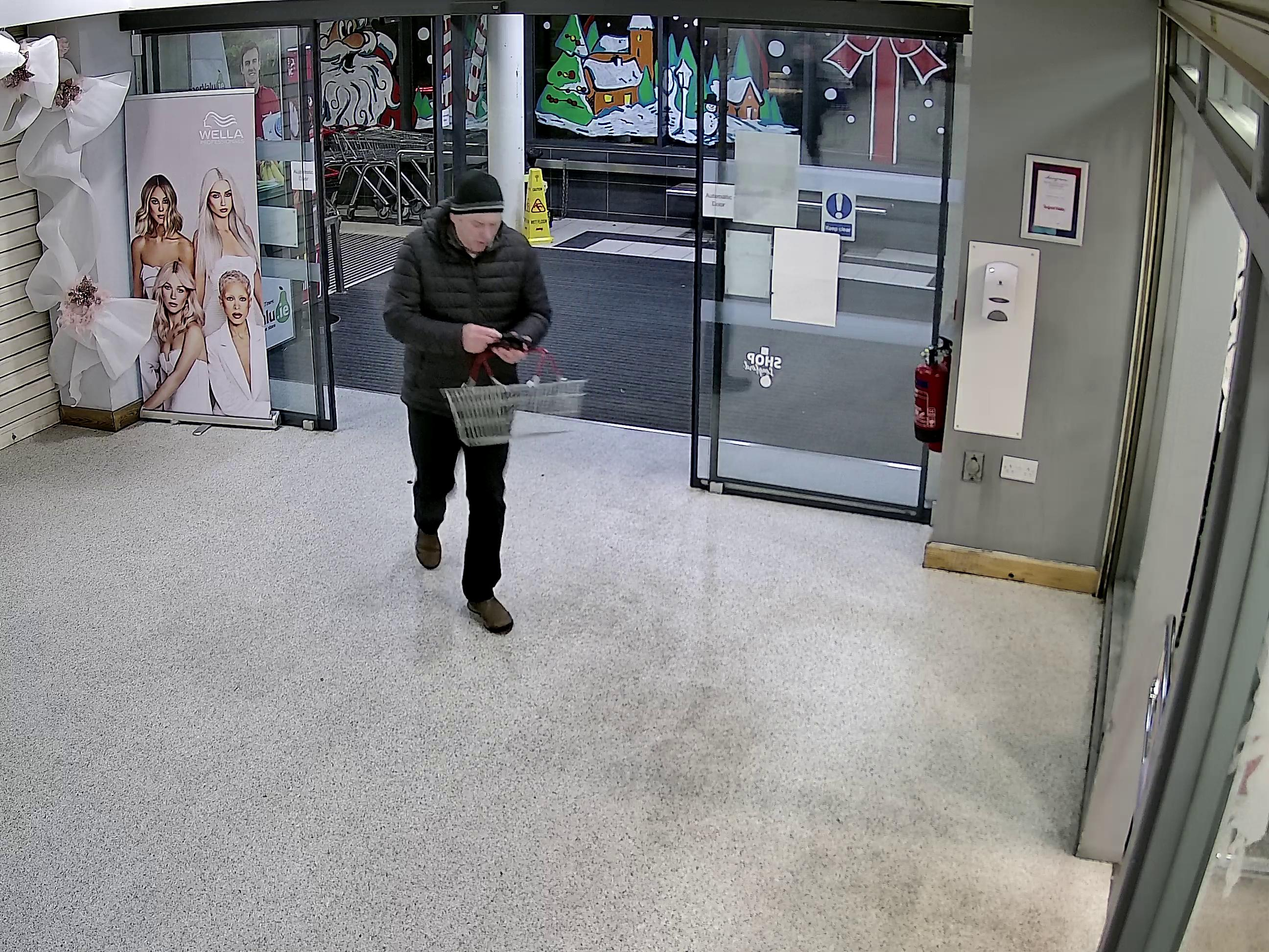empty-basket: (442, 338, 587, 447)
person: (381, 172, 552, 630)
person-with-empty-basket-trolly: (381, 172, 588, 632)
